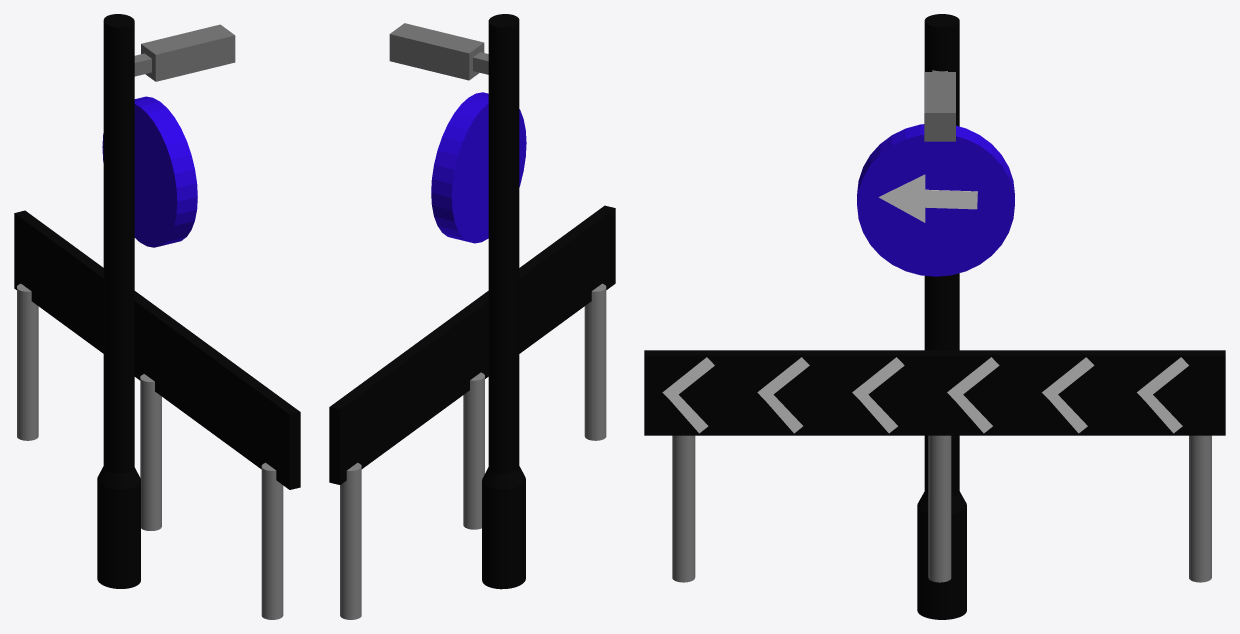
Rendered from GoLeftRoundabout.fbx.
3 views of the same model, side by side, from view 1: azimuth 30°, elevation 25°; view 2: azimuth 150°, elevation 25°; view 3: azimuth 270°, elevation 25° (orthographic). The views are drawn at different scales.
Visible parts, largest first — view 1: Cube.001, Cylinder, Circle, Cube, Cylinder.001, Cylinder.003, Cylinder.002; view 2: Cube.001, Cylinder, Circle, Cube, Cylinder.001, Cylinder.003, Cylinder.002; view 3: Cube.001, Circle, Cylinder, Chevrons, Cylinder.001, Cylinder.002, Cylinder.003, Cube, GOLEFTARROW.
Part boxes in pixels (<box>): Cube.001: <box>14,210,300,489</box>; Cylinder: <box>97,14,140,588</box>; Circle: <box>102,96,197,247</box>; Cube: <box>134,24,235,81</box>; Cylinder.001: <box>261,462,283,619</box>; Cylinder.003: <box>17,283,38,440</box>; Cylinder.002: <box>140,374,161,530</box>; Cube.001: <box>329,205,615,484</box>; Cylinder: <box>482,14,525,589</box>; Circle: <box>431,92,526,243</box>; Cube: <box>389,23,488,80</box>; Cylinder.001: <box>584,283,606,440</box>; Cylinder.003: <box>340,462,361,619</box>; Cylinder.002: <box>463,372,484,529</box>; Cube.001: <box>644,350,1225,435</box>; Circle: <box>857,124,1014,276</box>; Cylinder: <box>917,14,966,619</box>; Chevrons: <box>662,357,1188,433</box>; Cylinder.001: <box>672,435,695,582</box>; Cylinder.002: <box>928,435,951,582</box>; Cylinder.003: <box>1189,435,1211,582</box>; Cube: <box>924,70,955,141</box>; GOLEFTARROW: <box>878,174,977,222</box>.
Bounding box in the file's own units: 1.01 × 4.28 × 3.82.
